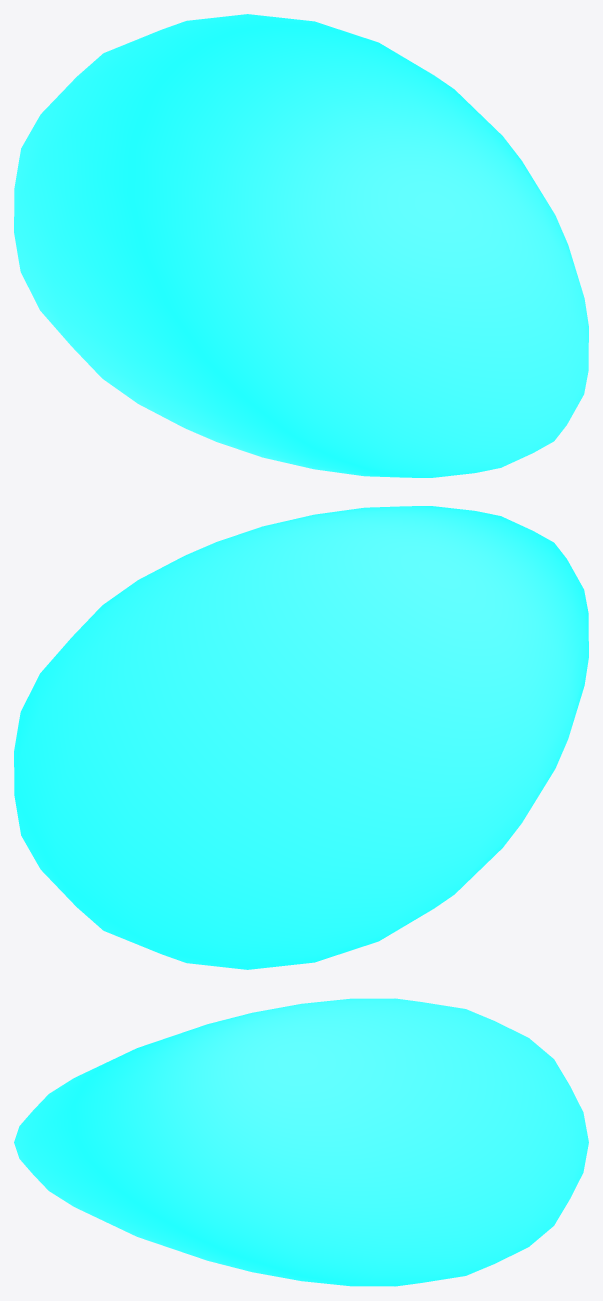
File: creature_head.glb
3 views of the same model, one above another, from view 1: azimuth 30°, elevation 25°; view 2: azimuth 150°, elevation 25°; view 3: azimuth 270°, elevation 25° (orthographic). The views are drawn at different scales.
Bounding box in the file's own units: 1.45 × 1.14 × 2.4.
